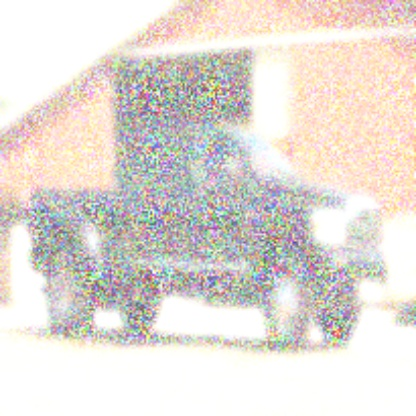Vehicle: (27, 123, 390, 352)
